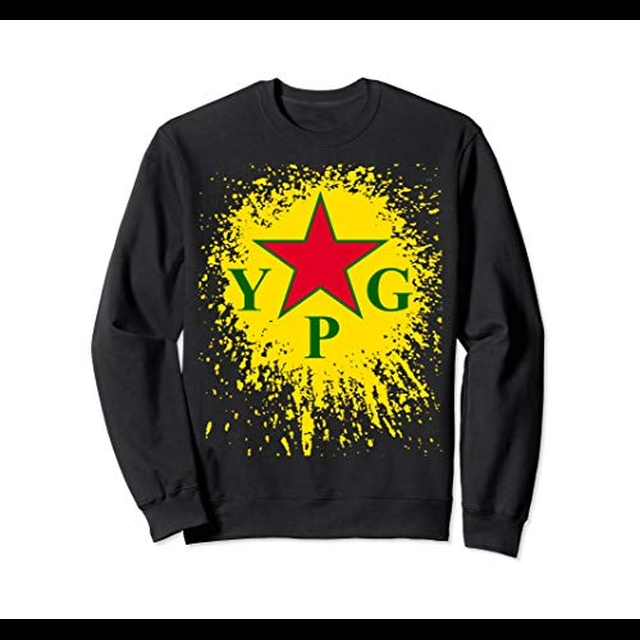YPG: (227, 185, 421, 385)
